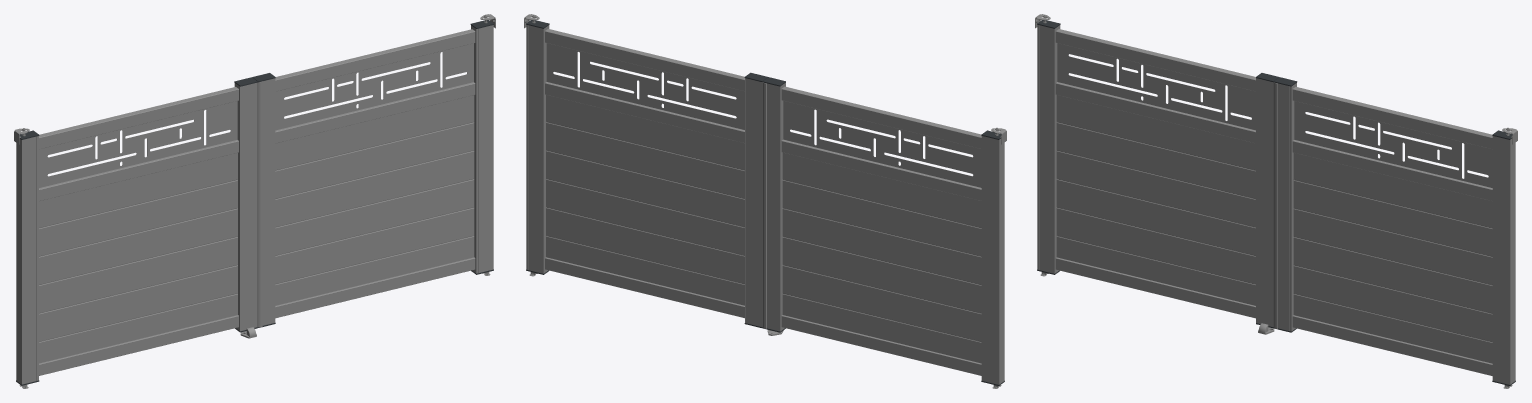
The picture shows the model from 3 angles, left to right: view 1: azimuth 30°, elevation 25°; view 2: azimuth 150°, elevation 25°; view 3: azimuth 330°, elevation 25°; orthographic projection.
Parts seen in each view (by area): view 1: paille001, paille, Shape107413002, Shape107413003, Shape107413000, Shape107413001, Shape107412992, Shape107412991, Shape107412993, Shape107412994, Shape107412643, Shape107412997 (+13 smaller); view 2: paille, paille001, Shape107412643, Shape107412991, Shape107412992, Shape107412993, Shape107412994, Shape107413003, Shape107413002, Shape107413000, Shape107413001, Shape107412157 (+13 smaller); view 3: paille, paille001, Shape107412971, Shape107412992, Shape107412994, Shape107413003, Shape107412993, Shape107413000, Shape107413001, Shape107413002, Shape107412991, Shape107412157 (+13 smaller).
Boxes of the visible parts, box(x1,y1,x2,y2) form: paille001: box(275, 43, 473, 130); paille: box(39, 101, 237, 187); Shape107413002: box(275, 179, 474, 255); Shape107413003: box(275, 207, 474, 283); Shape107413000: box(275, 122, 474, 198); Shape107413001: box(275, 150, 474, 227); Shape107412992: box(39, 208, 237, 284); Shape107412991: box(39, 179, 237, 256); Shape107412993: box(39, 236, 237, 313); Shape107412994: box(39, 265, 237, 341); Shape107412643: box(16, 136, 38, 384); Shape107412997: box(275, 95, 474, 170); paille: box(783, 101, 981, 187); paille001: box(546, 43, 744, 129); Shape107412643: box(981, 136, 1004, 384); Shape107412991: box(782, 179, 981, 256); Shape107412992: box(782, 208, 981, 284); Shape107412993: box(782, 236, 981, 313); Shape107412994: box(782, 265, 981, 341); Shape107413003: box(546, 207, 744, 283); Shape107413002: box(546, 178, 744, 255); Shape107413000: box(546, 122, 744, 198); Shape107413001: box(546, 150, 744, 226); Shape107412157: box(782, 152, 981, 227); paille: box(1057, 43, 1255, 130); paille001: box(1294, 101, 1492, 187); Shape107412971: box(1492, 136, 1515, 384); Shape107412992: box(1056, 150, 1255, 227); Shape107412994: box(1056, 207, 1255, 283); Shape107413003: box(1293, 265, 1492, 341); Shape107412993: box(1056, 179, 1255, 255); Shape107413000: box(1293, 179, 1492, 256); Shape107413001: box(1293, 208, 1492, 284); Shape107413002: box(1293, 236, 1492, 313); Shape107412991: box(1056, 122, 1255, 198); Shape107412157: box(1056, 95, 1255, 170).
Size of the model in its own units: 3259 by 1693 by 116.
Materials: 8 (2 with a texture image).
